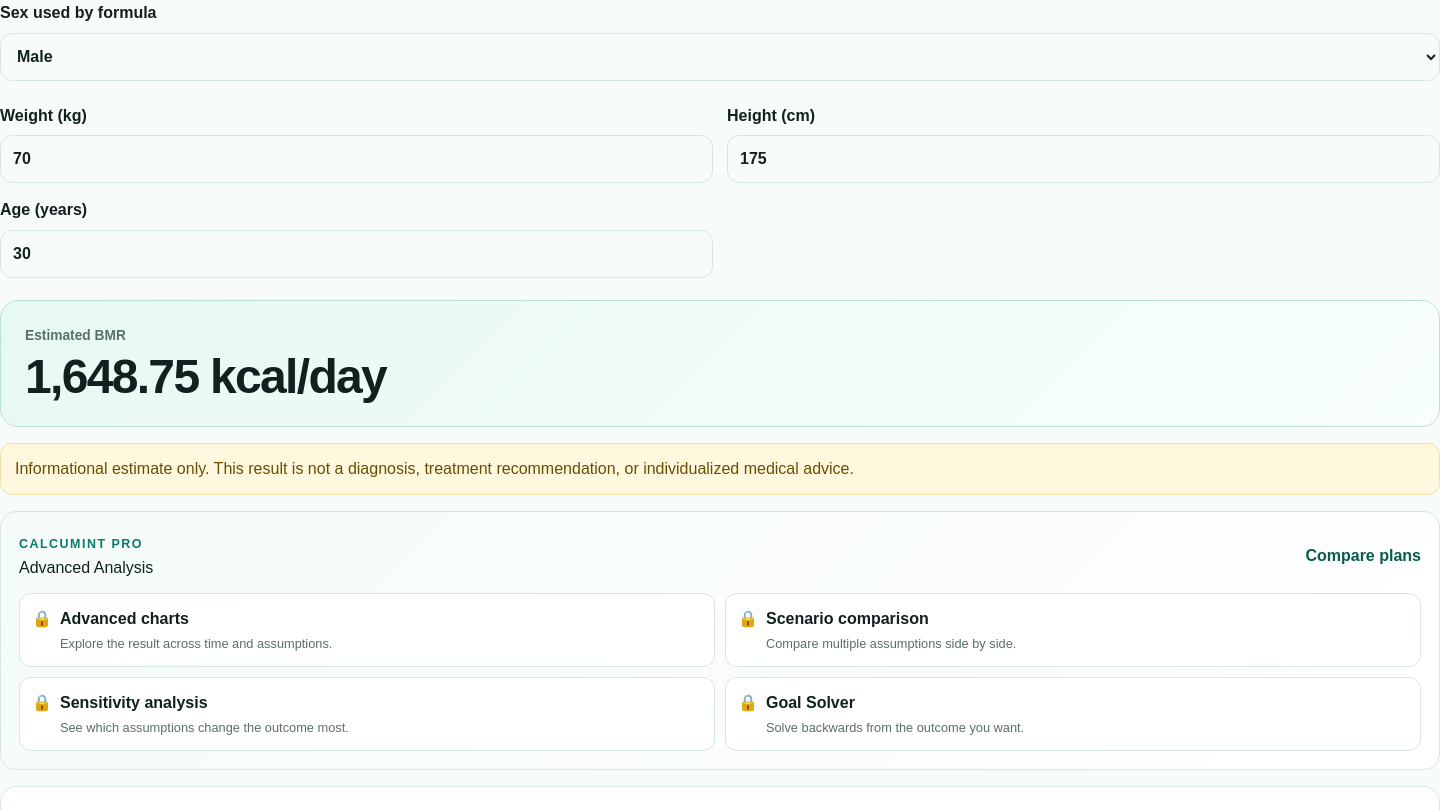
Test: Health batch 1 UI validation › announces an underage BMR input
The image size is (1440, 810).
Replace the text in the number field labelled "Age (years)" with "17" at {"x": 356, "y": 254}, box [0, 230, 713, 278]
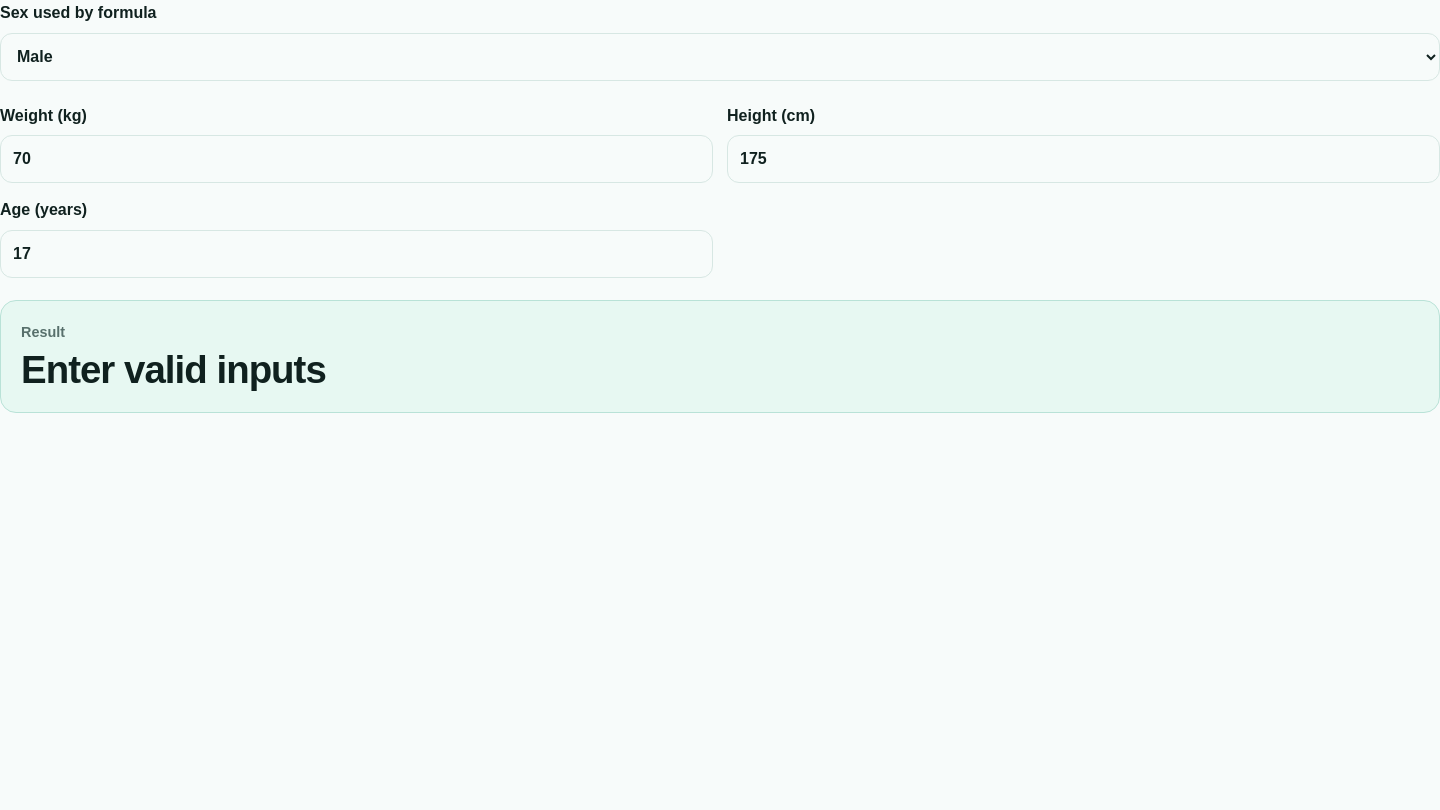
Now the message shows "Enter valid inputs", box [21, 348, 326, 391]
